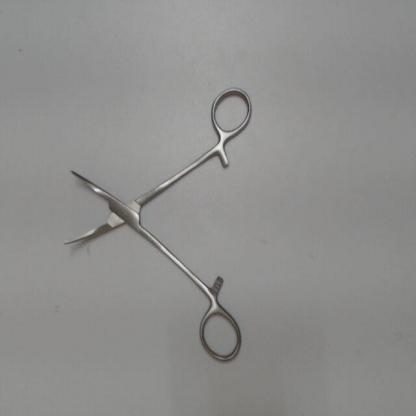Crile Artery Forceps: (53, 79, 258, 366)
